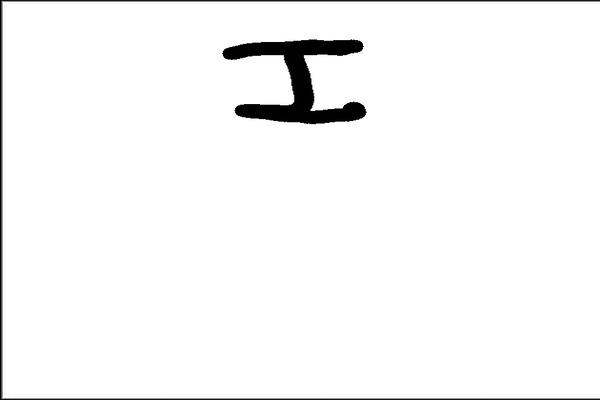i: (213, 28, 369, 128)
